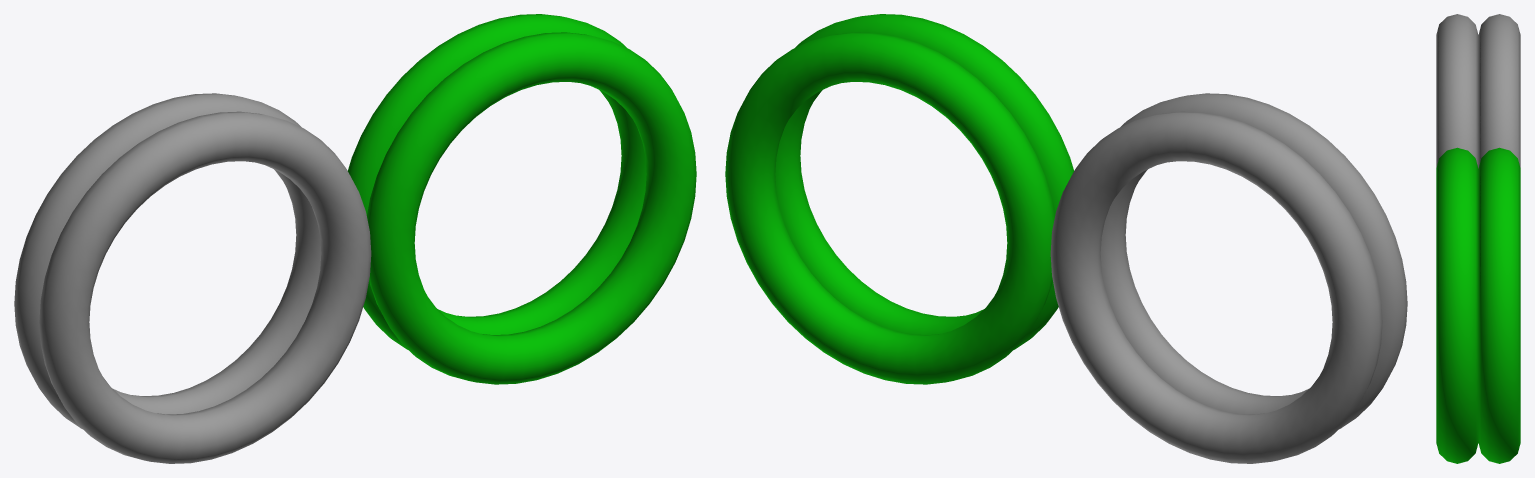
The model's file is japanese_8_in_2_step_02.glb.
3 views of the same model, side by side, from view 1: azimuth 30°, elevation 25°; view 2: azimuth 150°, elevation 25°; view 3: azimuth 270°, elevation 25° (orthographic). The views are drawn at different scales.
Visible parts, largest first — view 1: Torus AR 6.018, Torus AR 6.001, Torus AR 6.017, Torus AR 6.002; view 2: Torus AR 6.017, Torus AR 6.002, Torus AR 6.018, Torus AR 6.001; view 3: Torus AR 6.001, Torus AR 6.002, Torus AR 6.017, Torus AR 6.018.
Boxes of the visible parts, box(x1,y1,x2,y2) form: Torus AR 6.018: box(39, 111, 371, 463); Torus AR 6.001: box(367, 32, 696, 384); Torus AR 6.017: box(14, 93, 321, 429); Torus AR 6.002: box(348, 14, 646, 349); Torus AR 6.017: box(1050, 111, 1382, 463); Torus AR 6.002: box(725, 32, 1054, 384); Torus AR 6.018: box(1100, 93, 1407, 429); Torus AR 6.001: box(775, 14, 1073, 349); Torus AR 6.001: box(1436, 147, 1478, 463); Torus AR 6.002: box(1478, 147, 1520, 463); Torus AR 6.017: box(1478, 14, 1520, 168); Torus AR 6.018: box(1436, 14, 1478, 167).
Bounding box in the file's own units: 6 × 3 × 0.8.
